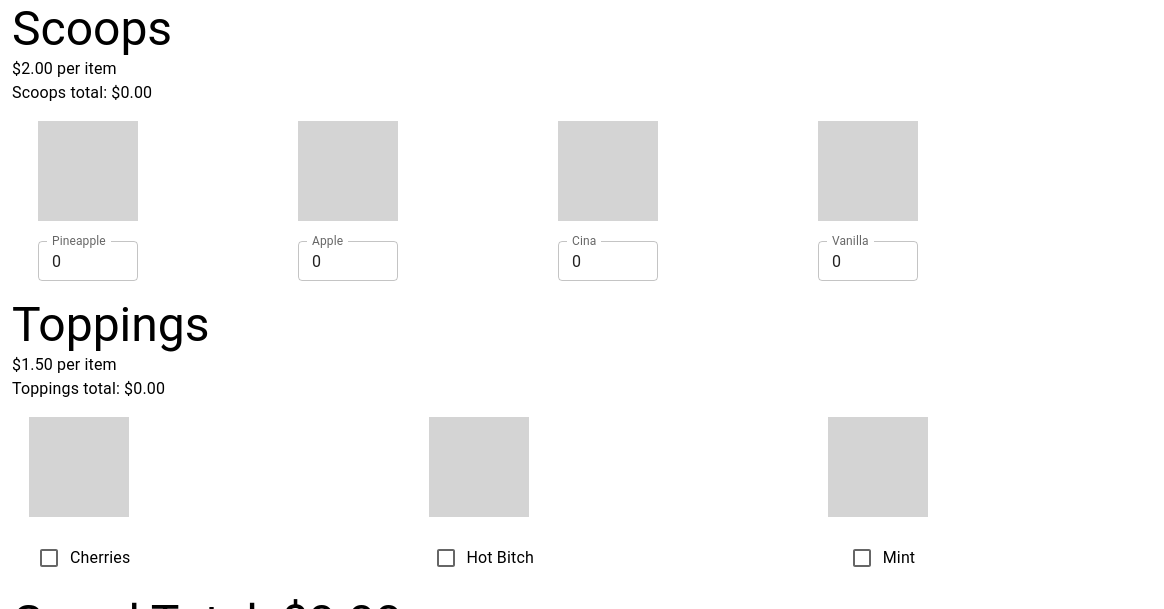
Test: grand total › should update the grand total if topping is added first
This screenshot has width=1164, height=609.
Replace the text in the number field with test id "Vanilla" with "1". click: coordinates (868, 261)
box: x1=818 y1=241 x2=918 y2=281
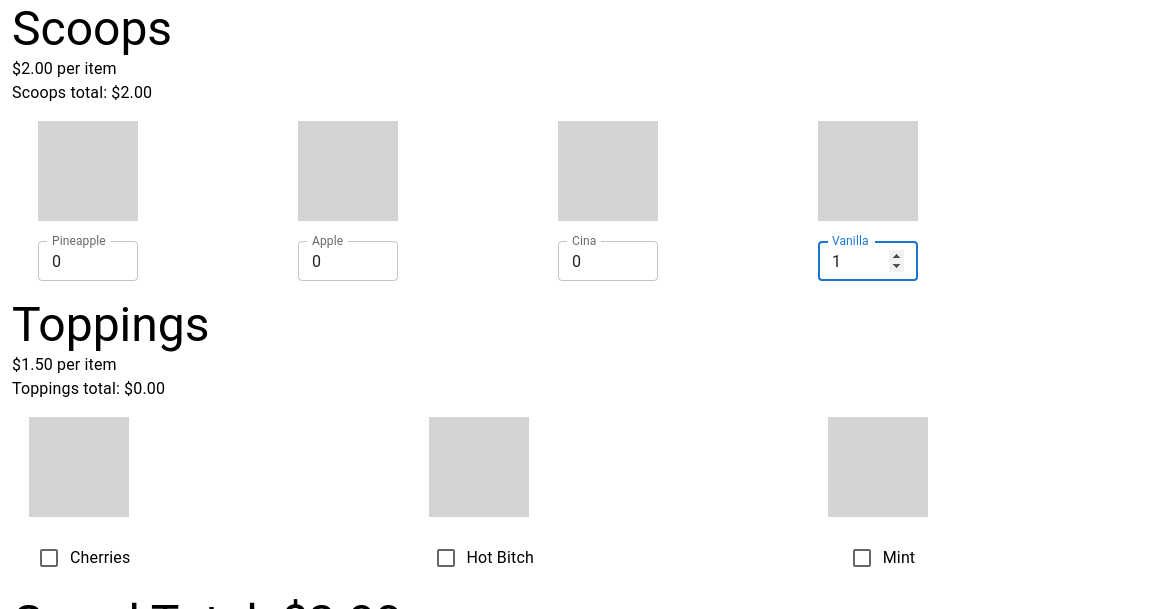
Click the checkbox labelled "Hot Bitch". click: coordinates (484, 558)
box: x1=434 y1=546 x2=534 y2=570
(page scrolled)
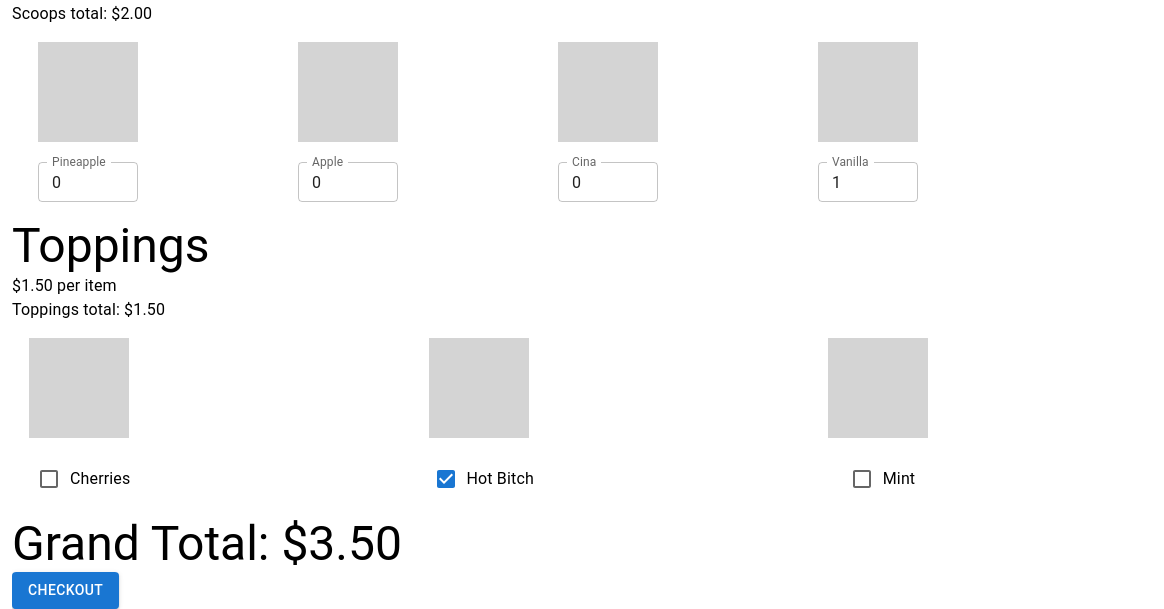
expect the heading "Grand Total: $3.50" is shown: met, box x1=12 y1=515 x2=402 y2=572
